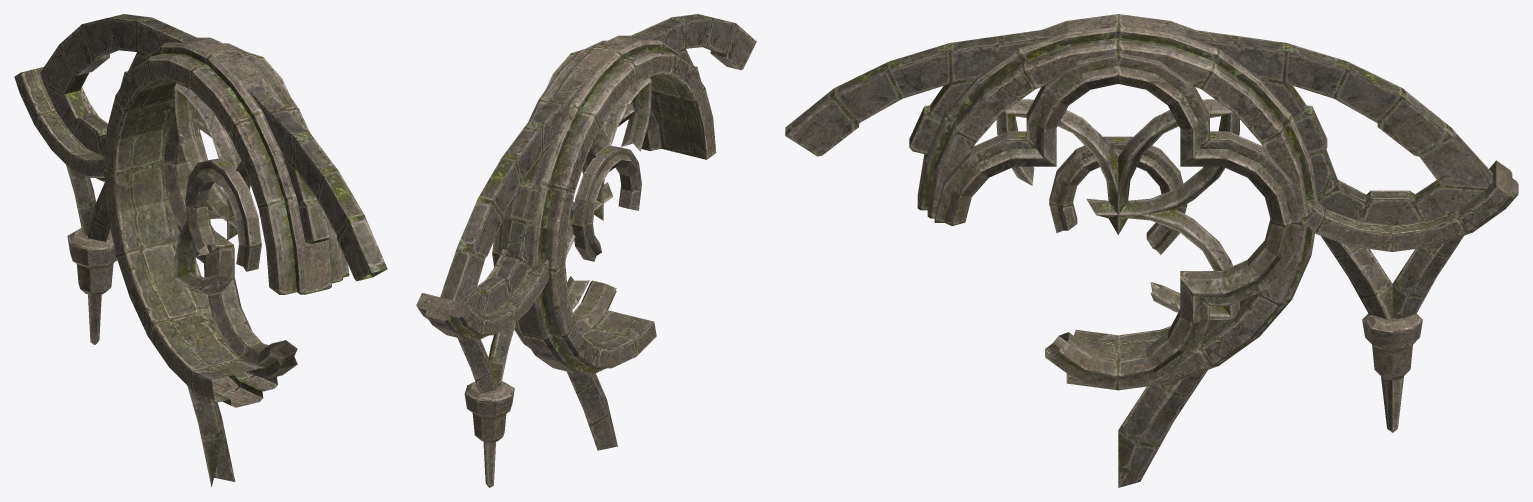
The model's file is bg_lut_lutomb_structure04a_sm_old.FBX.
3 renders of one model, left to right at view 1: azimuth 30°, elevation 25°; view 2: azimuth 150°, elevation 25°; view 3: azimuth 270°, elevation 25°, orthographic. The views are drawn at different scales.
Parts seen in each view (by area): view 1: bg_lut_lutomb_structure04a_sm_old; view 2: bg_lut_lutomb_structure04a_sm_old; view 3: bg_lut_lutomb_structure04a_sm_old.
Part boxes in pixels (<box>): bg_lut_lutomb_structure04a_sm_old: <box>14,14,387,486</box>; bg_lut_lutomb_structure04a_sm_old: <box>416,14,756,487</box>; bg_lut_lutomb_structure04a_sm_old: <box>785,14,1518,487</box>.
Bounding box in the file's own units: 78.42 × 416 × 599.
